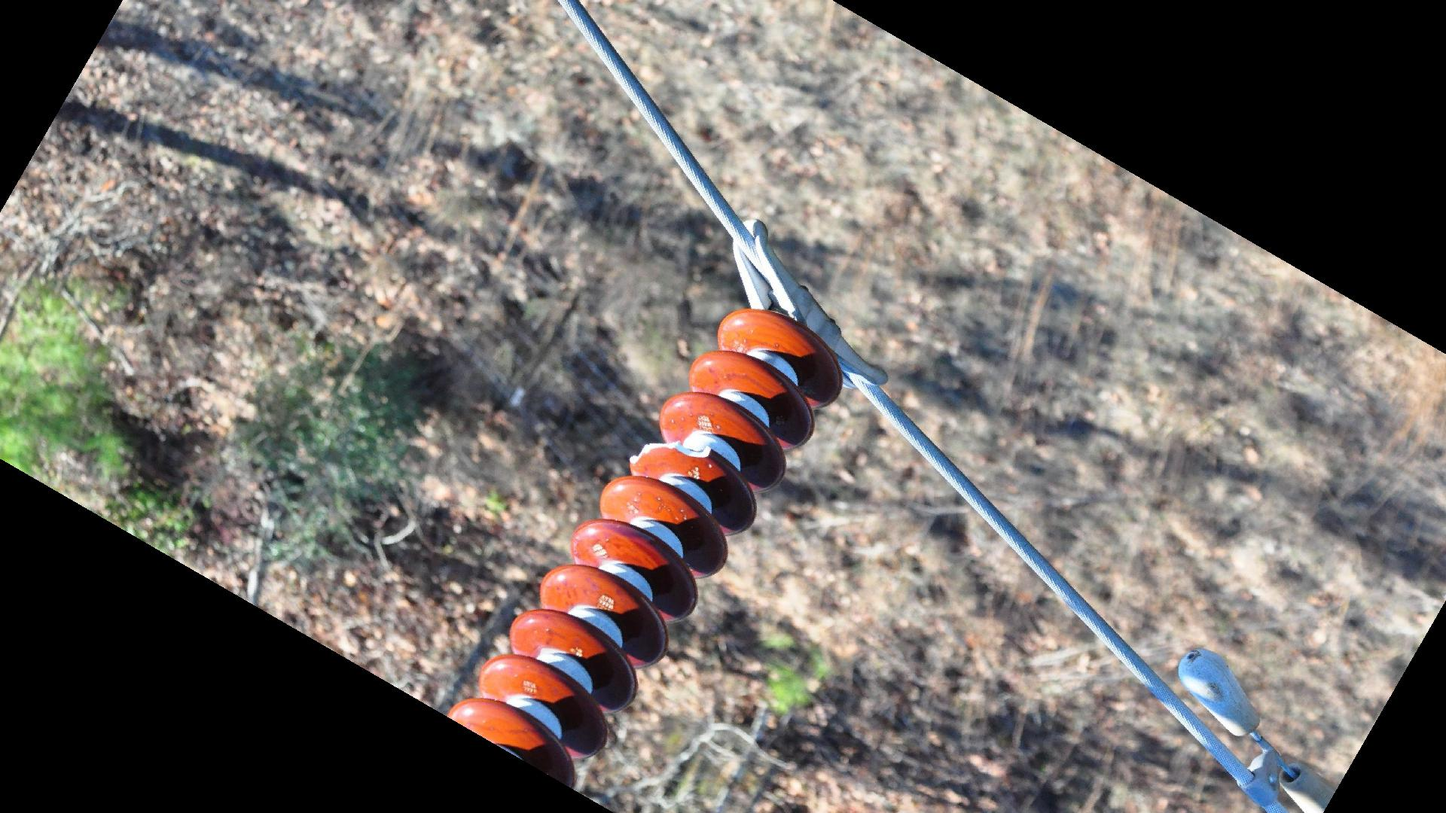insulator: (438, 303, 850, 784)
insulator_breakage: (624, 436, 717, 468)
